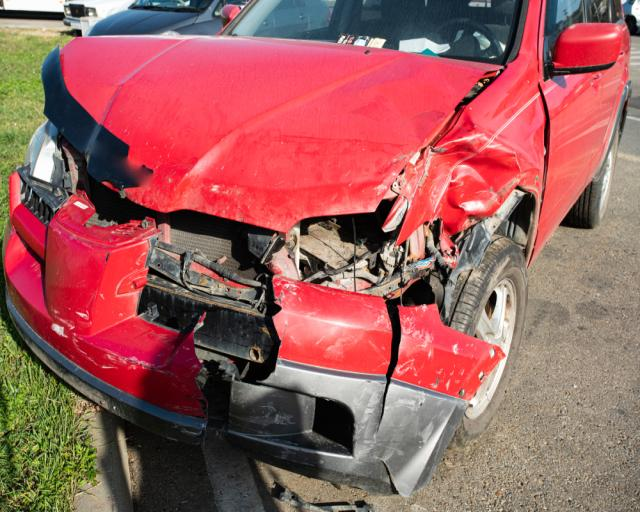crack: (374, 298, 402, 439), (376, 459, 399, 495)
dent: (214, 60, 486, 187), (393, 134, 519, 230)
scratch: (50, 302, 156, 371), (356, 380, 435, 457), (313, 310, 385, 357), (395, 316, 440, 377), (235, 405, 294, 427)
